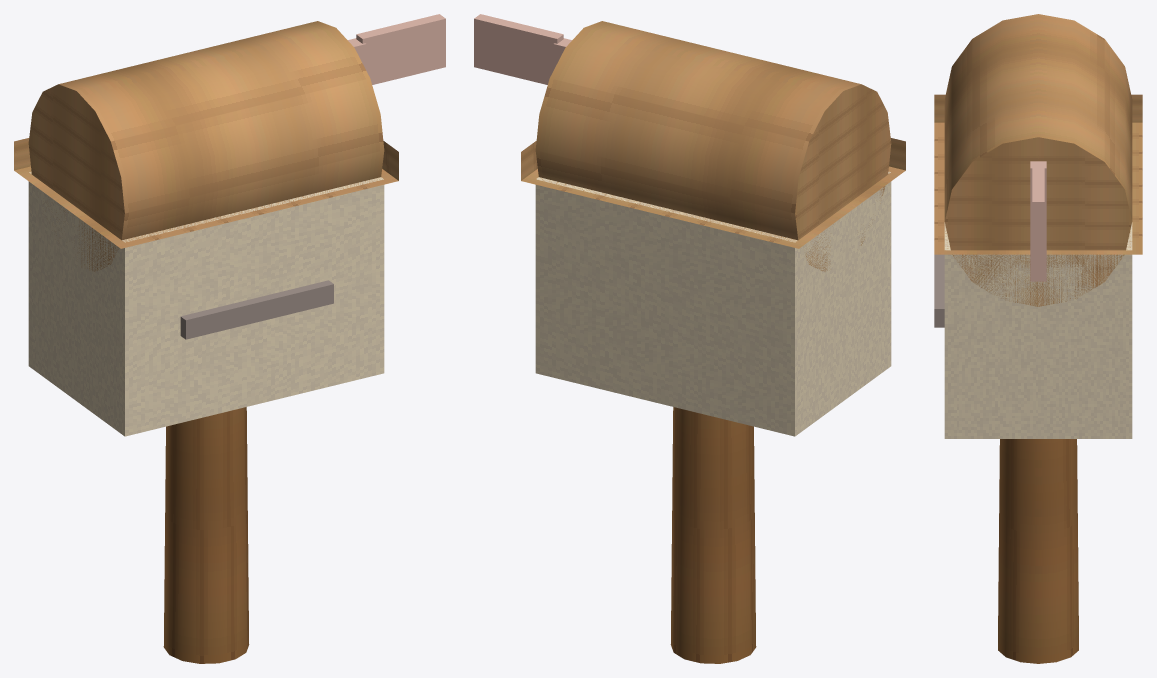
The model's file is mailbox.glb.
The picture shows the model from 3 angles, left to right: view 1: azimuth 30°, elevation 25°; view 2: azimuth 150°, elevation 25°; view 3: azimuth 270°, elevation 25°; orthographic projection. The views are drawn at different scales.
Parts seen in each view (by area): view 1: mailbox; view 2: mailbox; view 3: mailbox.
Part boxes in pixels (x1,y1,x2,y2): mailbox: (14,14,445,663); mailbox: (474,14,905,663); mailbox: (934,14,1142,663).
Size of the model in its own units: 0.405 by 0.605 by 0.2.
5 materials, 3 textured.
